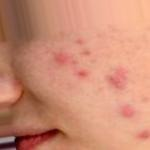Acne: (46, 44, 149, 138)
